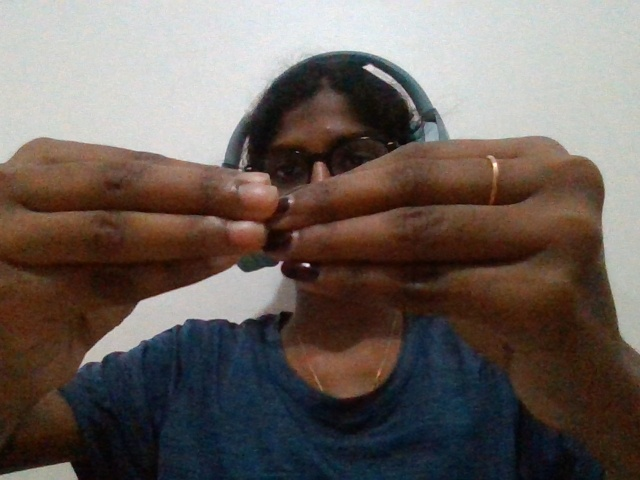More: (2, 115, 629, 474)
